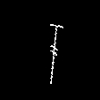treble_crochet: (50, 24, 62, 83)
